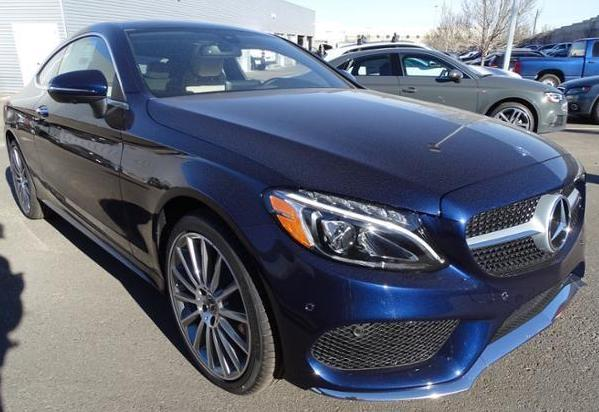C300Coupe: (2, 14, 589, 403)
